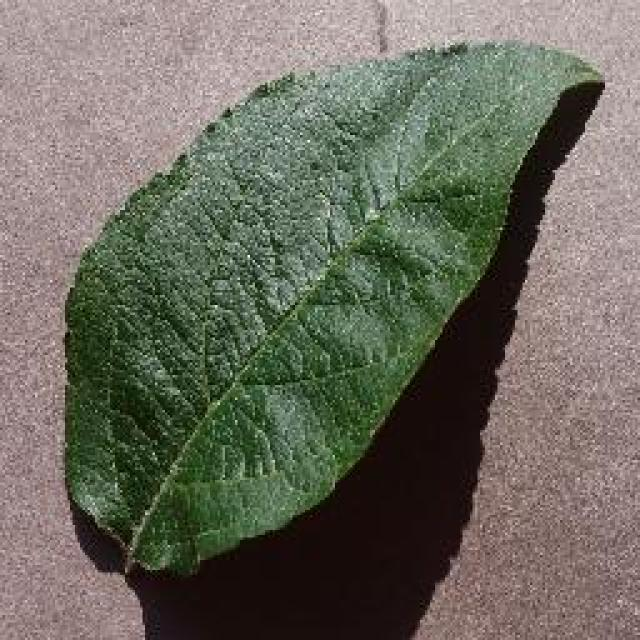apple scab disease: (57, 35, 605, 580)
